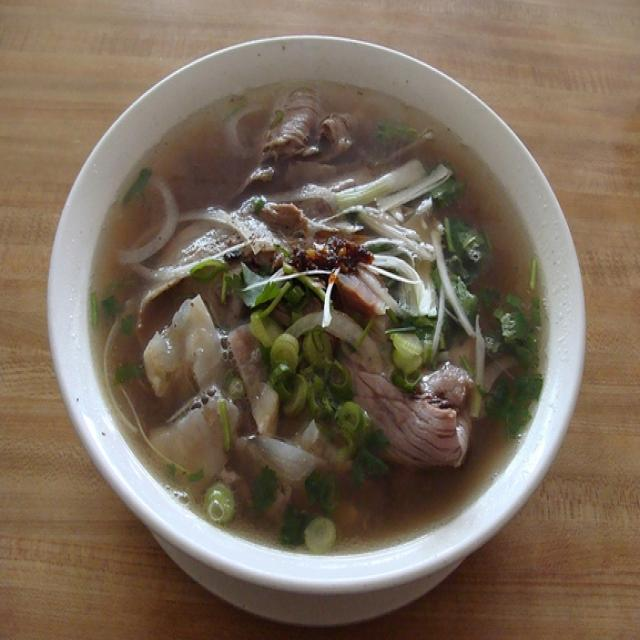面条主食: (81, 80, 539, 551)
